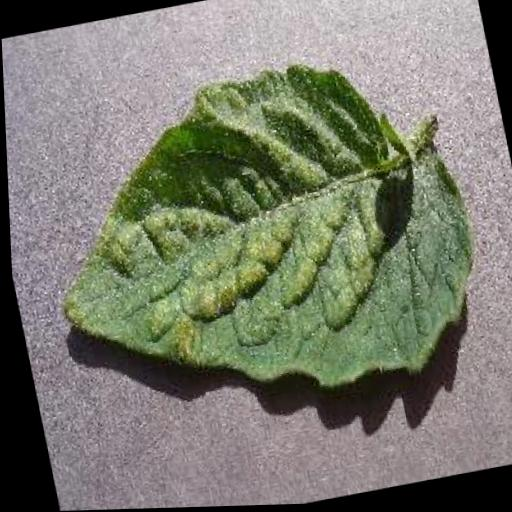Spider Mites: (20, 37, 496, 435)
